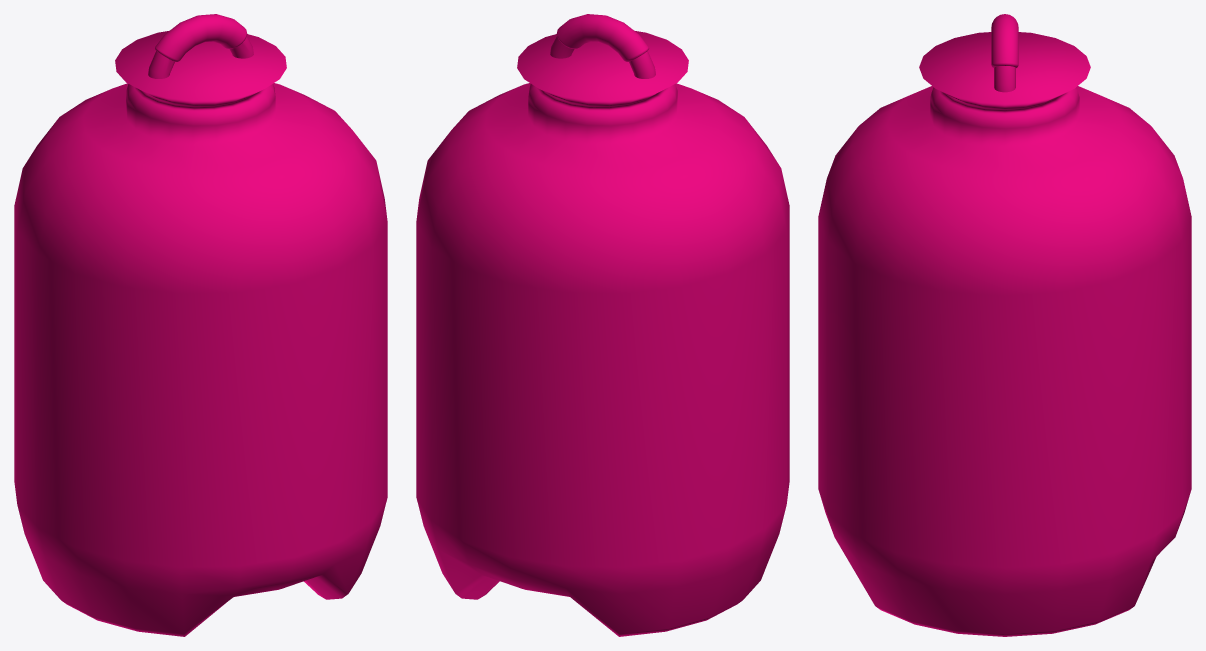
The model's file is Mesh_SprayBOttle.fbx.
3 views of the same model, side by side, from view 1: azimuth 30°, elevation 25°; view 2: azimuth 150°, elevation 25°; view 3: azimuth 270°, elevation 25° (orthographic).
Parts seen in each view (by area): view 1: BugSprayBottle_Mesh, BottleHandle_Mesh; view 2: BugSprayBottle_Mesh, BottleHandle_Mesh; view 3: BugSprayBottle_Mesh, BottleHandle_Mesh.
Boxes of the visible parts, left/top/right/bottom form: BugSprayBottle_Mesh: left=14, top=30, right=387, bottom=636; BottleHandle_Mesh: left=148, top=14, right=253, bottom=78; BugSprayBottle_Mesh: left=416, top=30, right=789, bottom=636; BottleHandle_Mesh: left=550, top=14, right=655, bottom=78; BugSprayBottle_Mesh: left=818, top=32, right=1191, bottom=636; BottleHandle_Mesh: left=991, top=14, right=1018, bottom=92.
Size of the model in its own units: 39.74 by 65.35 by 39.74.
